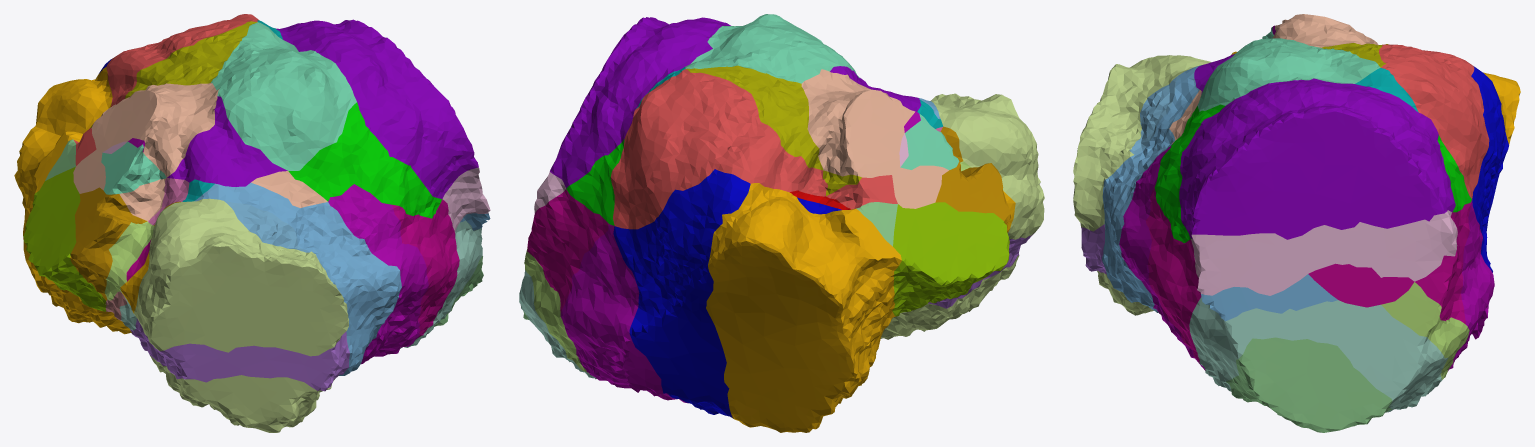
The model's file is fractured_73_55pcs.glb.
3 views of the same model, side by side, from view 1: azimuth 30°, elevation 25°; view 2: azimuth 150°, elevation 25°; view 3: azimuth 270°, elevation 25° (orthographic). The views are drawn at different scales.
Parts seen in each view (by area): view 1: piece_4.obj, piece_5.obj, piece_6.obj, piece_7.obj, piece_15.obj, piece_0.obj, piece_2.obj, piece_8.obj, piece_13.obj, piece_16.obj, piece_21.obj, piece_26.obj (+17 smaller); view 2: piece_0.obj, piece_1.obj, piece_18.obj, piece_5.obj, piece_15.obj, piece_21.obj, piece_2.obj, piece_4.obj, piece_6.obj, piece_26.obj, piece_19.obj, piece_24.obj (+11 smaller); view 3: piece_5.obj, piece_12.obj, piece_14.obj, piece_11.obj, piece_4.obj, piece_1.obj, piece_26.obj, piece_6.obj, piece_2.obj, piece_7.obj, piece_16.obj, piece_18.obj (+12 smaller).
Boxes of the visible parts, <box> form: piece_4.obj: <box>134,198,348,356</box>; piece_5.obj: <box>276,19,478,198</box>; piece_6.obj: <box>211,22,356,170</box>; piece_7.obj: <box>194,182,401,375</box>; piece_15.obj: <box>73,83,219,221</box>; piece_0.obj: <box>14,67,131,334</box>; piece_2.obj: <box>328,184,428,364</box>; piece_8.obj: <box>130,318,349,391</box>; piece_13.obj: <box>150,355,334,432</box>; piece_16.obj: <box>300,102,442,218</box>; piece_21.obj: <box>23,166,106,311</box>; piece_26.obj: <box>392,199,459,337</box>; piece_0.obj: <box>706,183,901,432</box>; piece_1.obj: <box>610,69,827,229</box>; piece_18.obj: <box>613,169,841,417</box>; piece_5.obj: <box>550,17,730,188</box>; piece_15.obj: <box>801,69,948,208</box>; piece_21.obj: <box>892,202,1009,316</box>; piece_2.obj: <box>560,224,688,403</box>; piece_4.obj: <box>930,93,1044,239</box>; piece_6.obj: <box>685,14,859,83</box>; piece_26.obj: <box>527,189,609,312</box>; piece_19.obj: <box>686,65,823,170</box>; piece_24.obj: <box>935,161,1010,224</box>; piece_5.obj: <box>1179,78,1455,239</box>; piece_12.obj: <box>1189,297,1448,412</box>; piece_14.obj: <box>1191,210,1457,295</box>; piece_11.obj: <box>1226,337,1392,432</box>; piece_4.obj: <box>1073,55,1210,231</box>; piece_1.obj: <box>1379,44,1489,199</box>; piece_26.obj: <box>1145,184,1470,370</box>; piece_6.obj: <box>1197,38,1380,111</box>; piece_2.obj: <box>1119,144,1494,370</box>; piece_7.obj: <box>1102,65,1200,312</box>; piece_16.obj: <box>1154,104,1471,243</box>; piece_18.obj: <box>1471,66,1508,272</box>.
Size of the model in its own units: 1 by 0.702 by 0.913.
